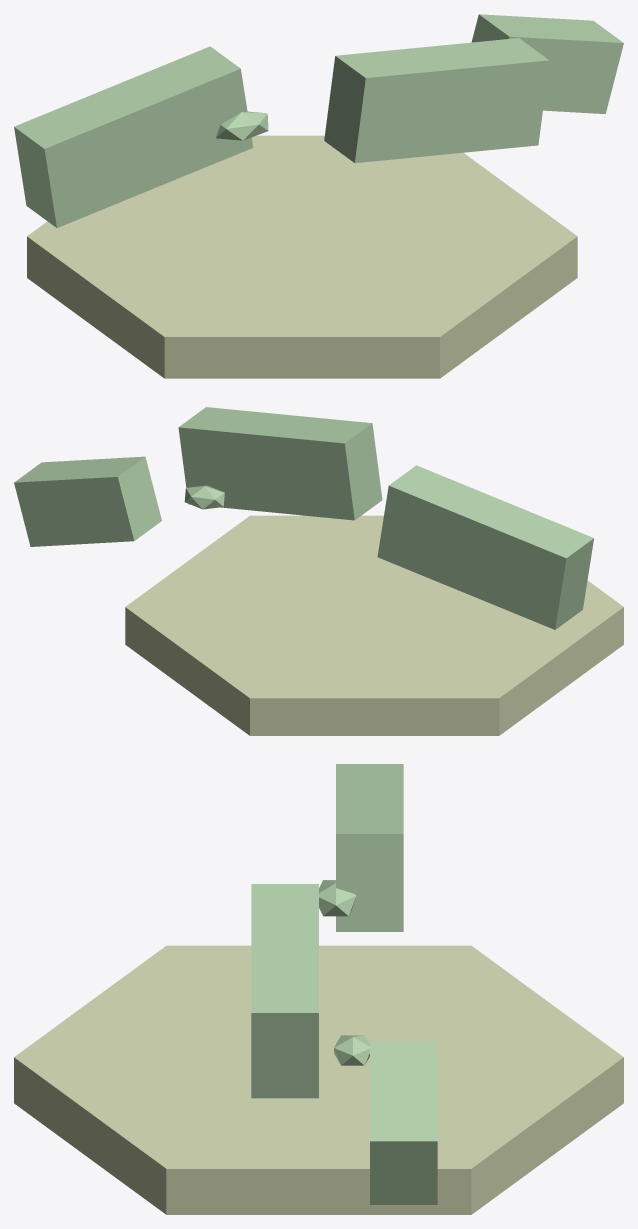
Rendered from COASTAL_GROUND_COVER_001_v002_LOD_MAP.glb.
3 views of the same model, one above another, from view 1: azimuth 30°, elevation 25°; view 2: azimuth 150°, elevation 25°; view 3: azimuth 270°, elevation 25° (orthographic). The views are drawn at different scales.
Parts seen in each view (by area): view 1: COASTAL_GROUND_COVER_001_LOD_MAP_GROUND_SOCKET, COASTAL_GROUND_COVER_001_LOD_MAP_PATCH_MAP_001, COASTAL_GROUND_COVER_001_LOD_MAP_PATCH_MAP_002, COASTAL_GROUND_COVER_001_LOD_MAP_PATCH_MAP_003, COASTAL_GROUND_COVER_001_LOD_MAP_CLUSTER_001; view 2: COASTAL_GROUND_COVER_001_LOD_MAP_GROUND_SOCKET, COASTAL_GROUND_COVER_001_LOD_MAP_PATCH_MAP_001, COASTAL_GROUND_COVER_001_LOD_MAP_PATCH_MAP_002, COASTAL_GROUND_COVER_001_LOD_MAP_PATCH_MAP_003, COASTAL_GROUND_COVER_001_LOD_MAP_CLUSTER_002; view 3: COASTAL_GROUND_COVER_001_LOD_MAP_GROUND_SOCKET, COASTAL_GROUND_COVER_001_LOD_MAP_PATCH_MAP_002, COASTAL_GROUND_COVER_001_LOD_MAP_PATCH_MAP_003, COASTAL_GROUND_COVER_001_LOD_MAP_PATCH_MAP_001, COASTAL_GROUND_COVER_001_LOD_MAP_CLUSTER_001, COASTAL_GROUND_COVER_001_LOD_MAP_CLUSTER_002.
Part boxes in pixels (x1,y1,x2,y2): COASTAL_GROUND_COVER_001_LOD_MAP_GROUND_SOCKET: (27,135,577,378); COASTAL_GROUND_COVER_001_LOD_MAP_PATCH_MAP_001: (14,46,253,227); COASTAL_GROUND_COVER_001_LOD_MAP_PATCH_MAP_002: (324,38,549,163); COASTAL_GROUND_COVER_001_LOD_MAP_PATCH_MAP_003: (471,14,623,113); COASTAL_GROUND_COVER_001_LOD_MAP_CLUSTER_001: (216,111,268,140); COASTAL_GROUND_COVER_001_LOD_MAP_GROUND_SOCKET: (125,515,623,735); COASTAL_GROUND_COVER_001_LOD_MAP_PATCH_MAP_001: (377,465,593,629); COASTAL_GROUND_COVER_001_LOD_MAP_PATCH_MAP_002: (178,407,382,520); COASTAL_GROUND_COVER_001_LOD_MAP_PATCH_MAP_003: (14,456,161,546); COASTAL_GROUND_COVER_001_LOD_MAP_CLUSTER_002: (184,485,224,509); COASTAL_GROUND_COVER_001_LOD_MAP_GROUND_SOCKET: (14,945,623,1214); COASTAL_GROUND_COVER_001_LOD_MAP_PATCH_MAP_002: (251,884,318,1098); COASTAL_GROUND_COVER_001_LOD_MAP_PATCH_MAP_003: (370,1041,437,1204); COASTAL_GROUND_COVER_001_LOD_MAP_PATCH_MAP_001: (336,764,403,931); COASTAL_GROUND_COVER_001_LOD_MAP_CLUSTER_001: (319,880,356,916); COASTAL_GROUND_COVER_001_LOD_MAP_CLUSTER_002: (334,1035,369,1065).
Size of the model in its own units: 0.8978 by 0.3227 by 0.72.
